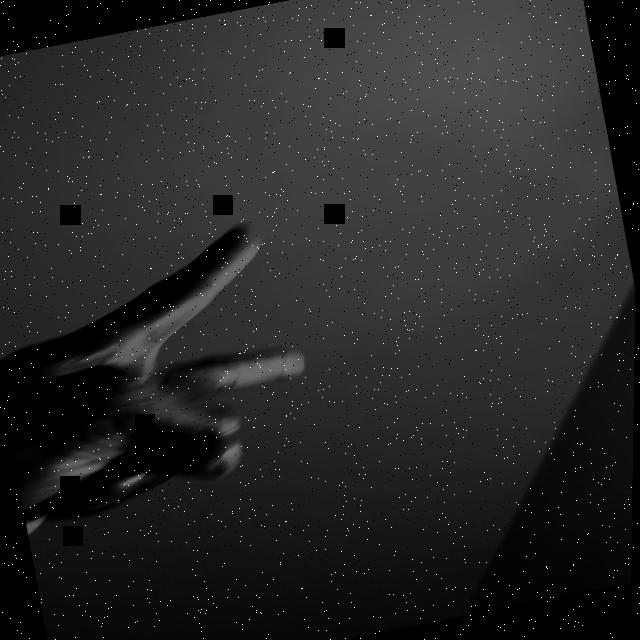Scissors: (0, 211, 336, 541)
